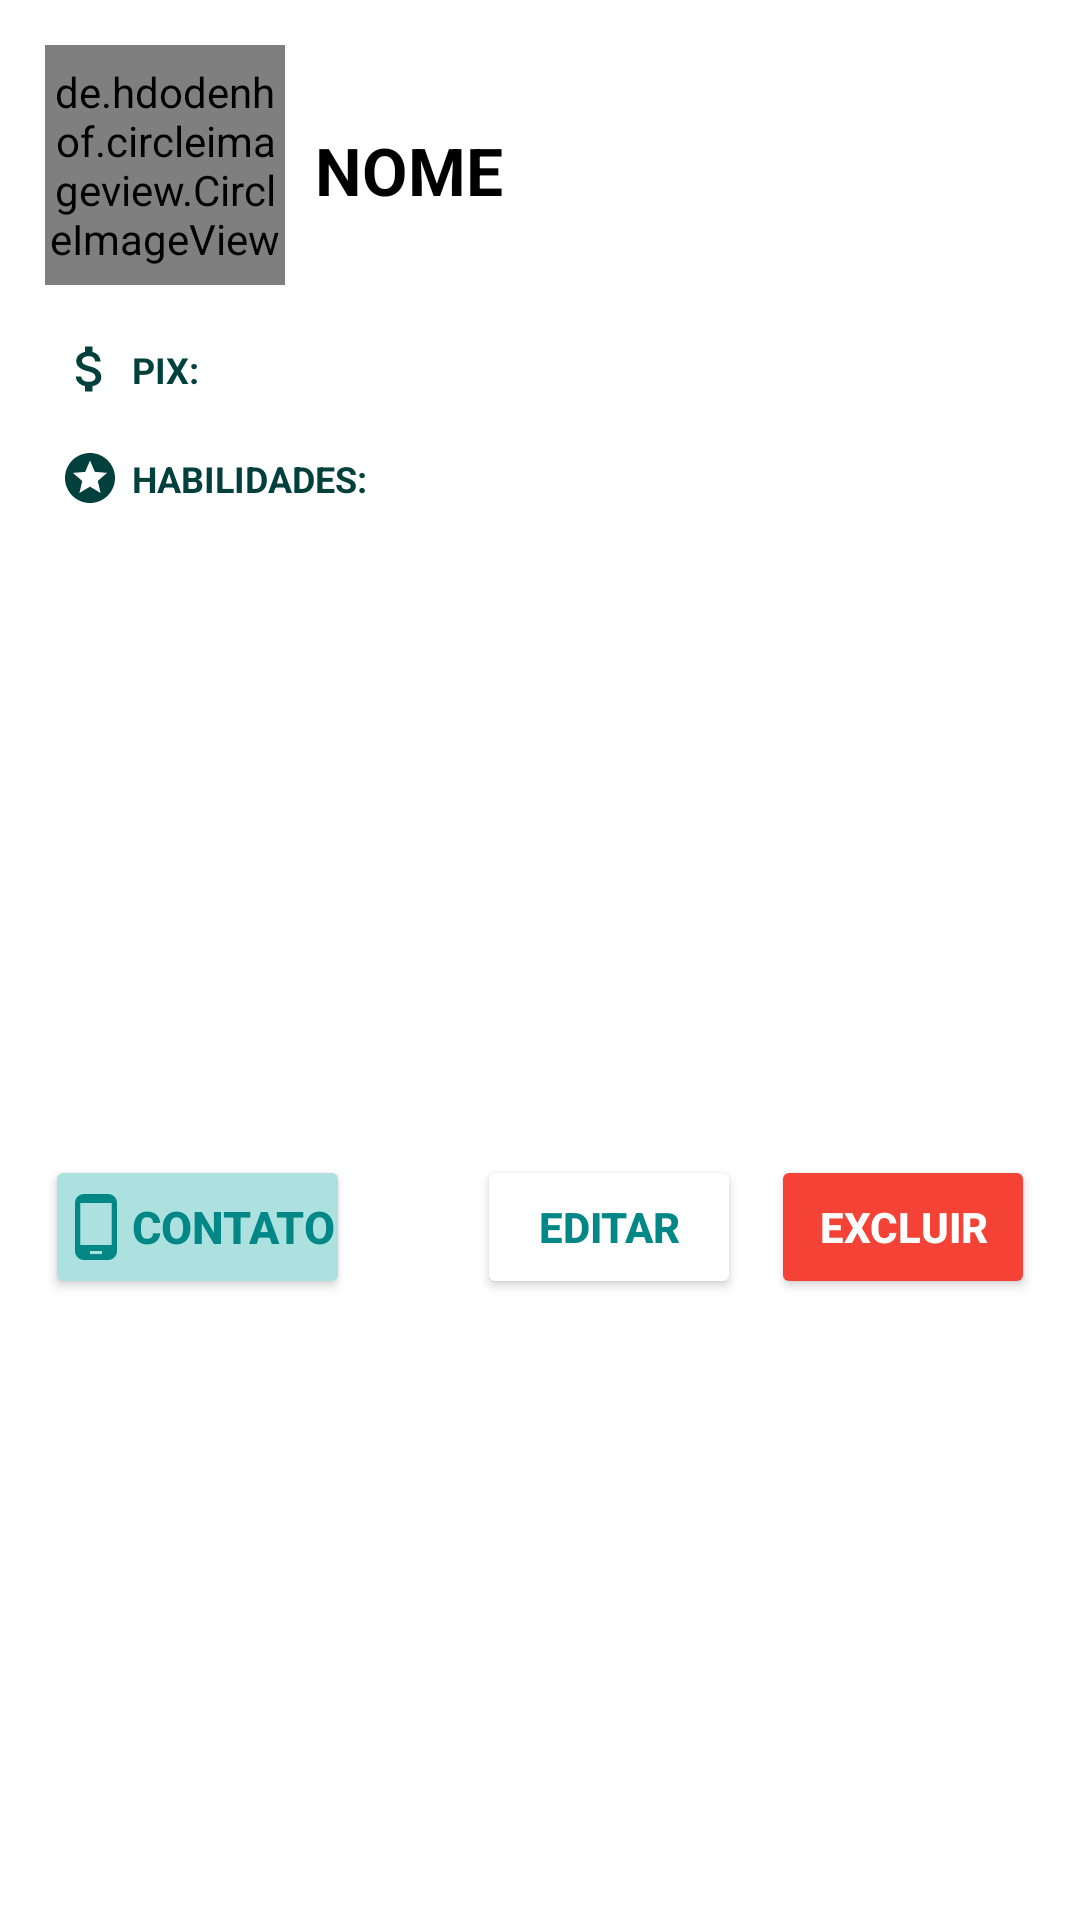

Icons on this 1080*1920 Android screen, each with its box as detection(x1, y1, x2, y2):
money: detection(75, 346, 102, 392)
stars: detection(65, 453, 115, 503)
